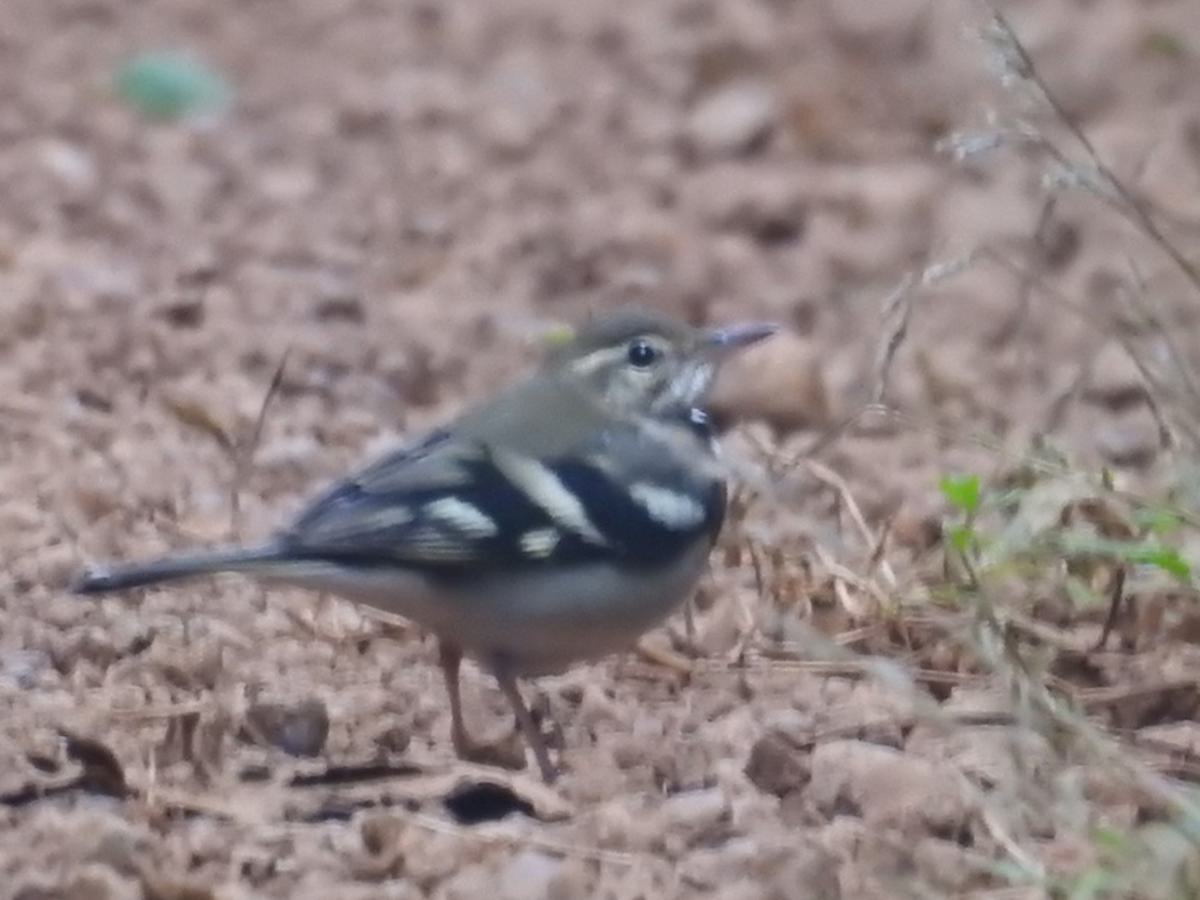wagtail: (178, 310, 785, 713)
